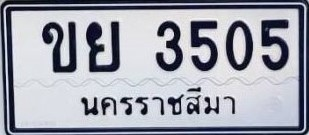txt02: (40, 20, 80, 75)
txt29: (84, 20, 121, 74)
